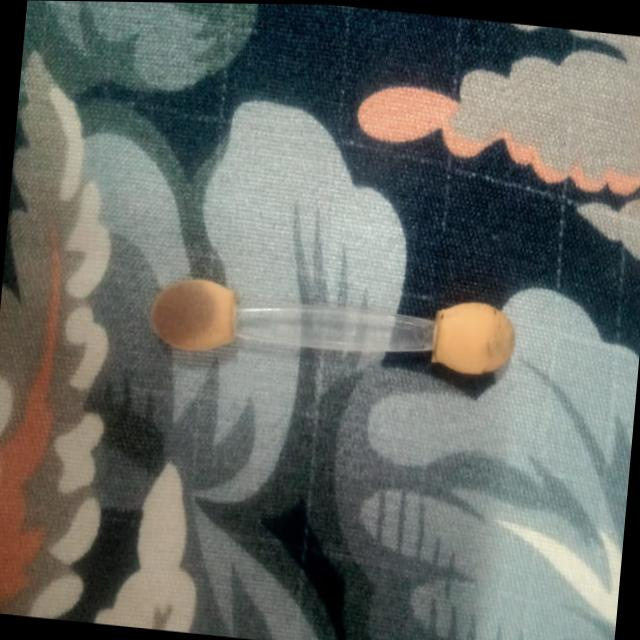beauty blender: (132, 252, 534, 408)
